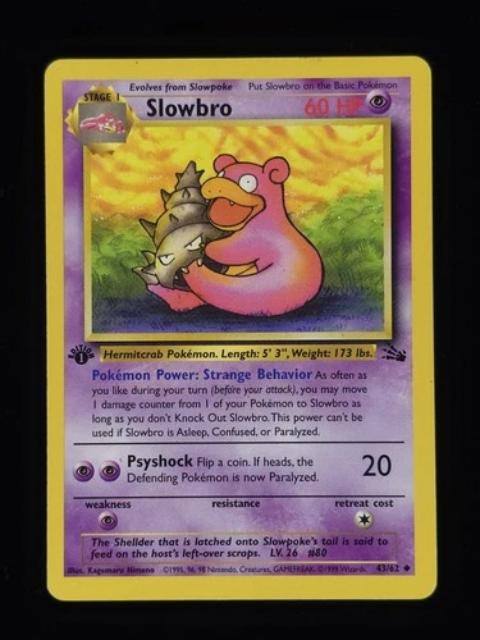Card: (41, 50, 438, 607)
Name: (140, 95, 234, 118)
